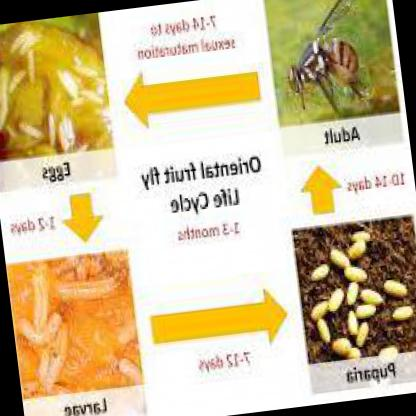fruit fly: (288, 0, 368, 112)
